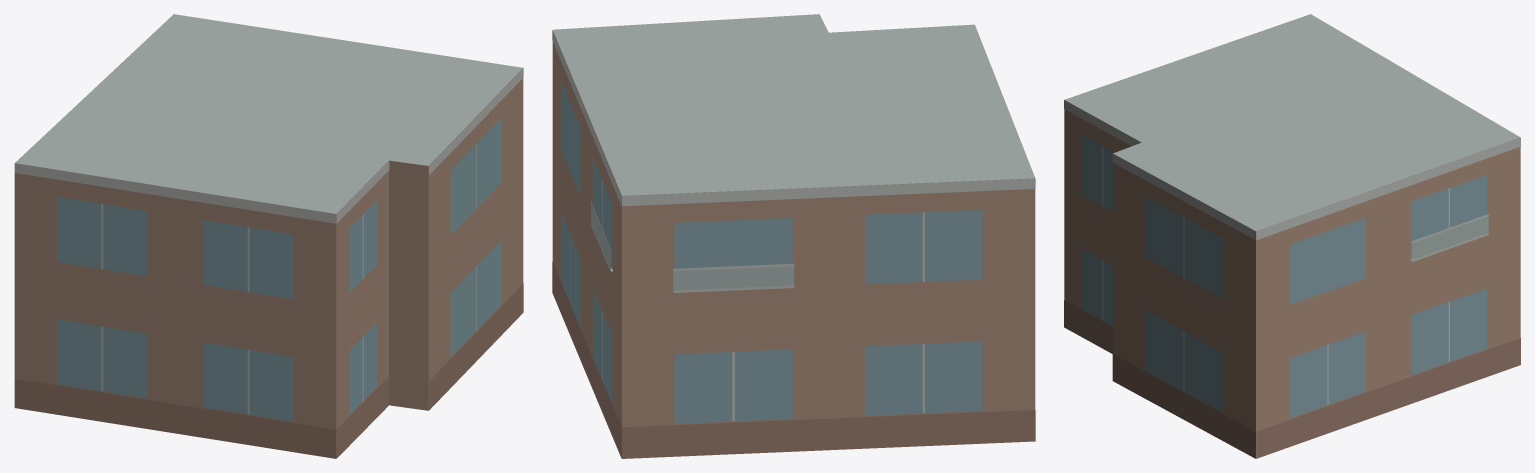
Rendered from survey-upis-33022249.glb.
The picture shows the model from 3 angles, left to right: view 1: azimuth 30°, elevation 25°; view 2: azimuth 150°, elevation 25°; view 3: azimuth 270°, elevation 25°; orthographic projection. The views are drawn at different scales.
Parts seen in each view (by area): view 1: survey-upis-33022249.tmp; view 2: survey-upis-33022249.tmp; view 3: survey-upis-33022249.tmp.
Part boxes in pixels (box(x1,y1,x2,y2)): survey-upis-33022249.tmp: box(14, 14, 523, 458); survey-upis-33022249.tmp: box(552, 14, 1035, 458); survey-upis-33022249.tmp: box(1064, 14, 1520, 458).
Bounding box in the file's own units: 12.5 × 6.1 × 11.1.
